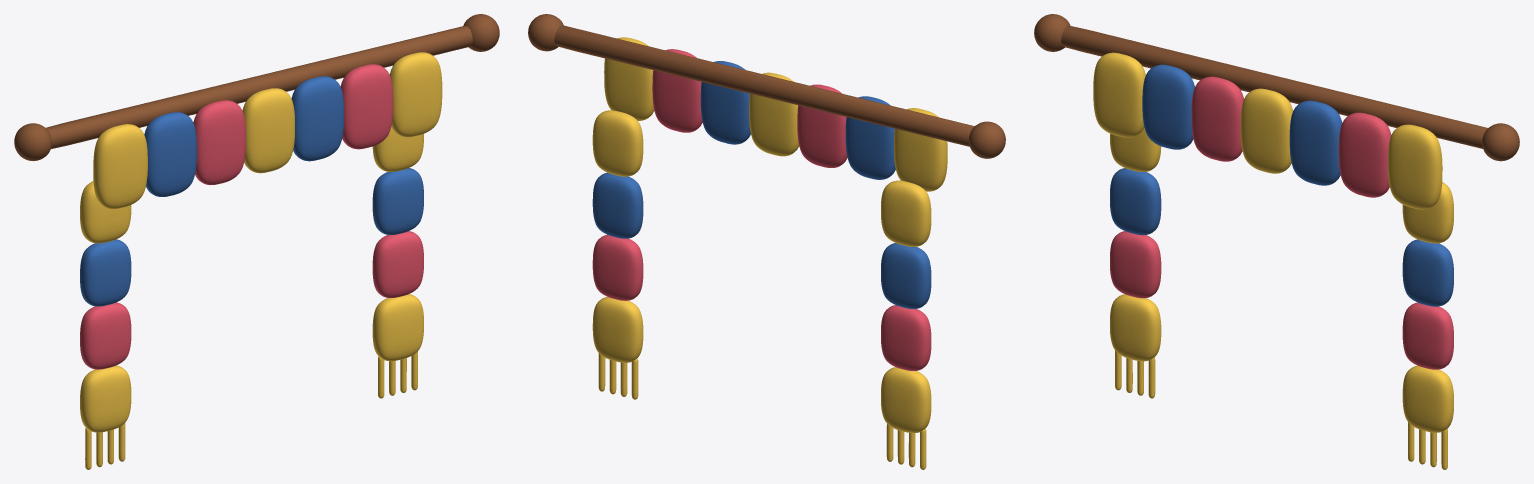
File: deco_bufanda.glb
3 renders of one model, left to right at view 1: azimuth 30°, elevation 25°; view 2: azimuth 150°, elevation 25°; view 3: azimuth 330°, elevation 25°, orthographic.
Parts seen in each view (by area): view 1: percha bufanda.001, tramo bufanda 0.001, tramo bufanda 6.001, tramo bufanda 5.001, tramo bufanda 1.001, tramo bufanda 2.001, tramo bufanda 3.001, tramo bufanda 4.001, caída bufanda -12.001, caída bufanda -11.001, caída bufanda -13.001, caída bufanda 13.001 (+6 smaller); view 2: percha bufanda.001, caída bufanda 10.001, caída bufanda -10.001, caída bufanda 12.001, caída bufanda 11.001, caída bufanda 13.001, caída bufanda -12.001, caída bufanda -11.001, caída bufanda -13.001, tramo bufanda 0.001, tramo bufanda 1.001, tramo bufanda 2.001 (+6 smaller); view 3: percha bufanda.001, tramo bufanda 6.001, tramo bufanda 0.001, tramo bufanda 1.001, tramo bufanda 2.001, tramo bufanda 4.001, tramo bufanda 3.001, tramo bufanda 5.001, caída bufanda 11.001, caída bufanda 12.001, caída bufanda 13.001, caída bufanda -13.001 (+6 smaller).
Part boxes in pixels (<box>): percha bufanda.001: <box>46,26,473,148</box>; tramo bufanda 0.001: <box>93,124,147,208</box>; tramo bufanda 6.001: <box>389,52,442,137</box>; tramo bufanda 5.001: <box>340,64,393,149</box>; tramo bufanda 1.001: <box>144,112,196,196</box>; tramo bufanda 2.001: <box>193,100,245,185</box>; tramo bufanda 3.001: <box>242,88,294,173</box>; tramo bufanda 4.001: <box>291,76,344,161</box>; caída bufanda -12.001: <box>80,302,131,369</box>; caída bufanda -11.001: <box>80,239,131,306</box>; caída bufanda -13.001: <box>80,365,131,432</box>; caída bufanda 13.001: <box>372,294,423,361</box>; percha bufanda.001: <box>554,25,974,146</box>; caída bufanda 10.001: <box>592,110,643,176</box>; caída bufanda -10.001: <box>881,180,931,246</box>; caída bufanda 12.001: <box>592,234,643,300</box>; caída bufanda 11.001: <box>592,172,643,238</box>; caída bufanda 13.001: <box>592,297,643,362</box>; caída bufanda -12.001: <box>881,305,931,370</box>; caída bufanda -11.001: <box>881,243,931,308</box>; caída bufanda -13.001: <box>881,367,931,433</box>; tramo bufanda 0.001: <box>894,108,947,191</box>; tramo bufanda 1.001: <box>845,96,895,179</box>; tramo bufanda 2.001: <box>797,84,847,167</box>; percha bufanda.001: <box>1061,25,1487,148</box>; tramo bufanda 6.001: <box>1388,124,1442,209</box>; tramo bufanda 0.001: <box>1093,52,1145,137</box>; tramo bufanda 1.001: <box>1142,64,1194,149</box>; tramo bufanda 2.001: <box>1191,76,1243,161</box>; tramo bufanda 4.001: <box>1289,100,1342,185</box>; tramo bufanda 3.001: <box>1240,88,1292,173</box>; tramo bufanda 5.001: <box>1338,112,1391,197</box>; caída bufanda 11.001: <box>1402,239,1453,306</box>; caída bufanda 12.001: <box>1402,302,1453,369</box>; caída bufanda 13.001: <box>1402,365,1453,432</box>; caída bufanda -13.001: <box>1110,294,1161,361</box>.
Bounding box in the file's own units: 0.5583 × 0.4031 × 0.0539.
